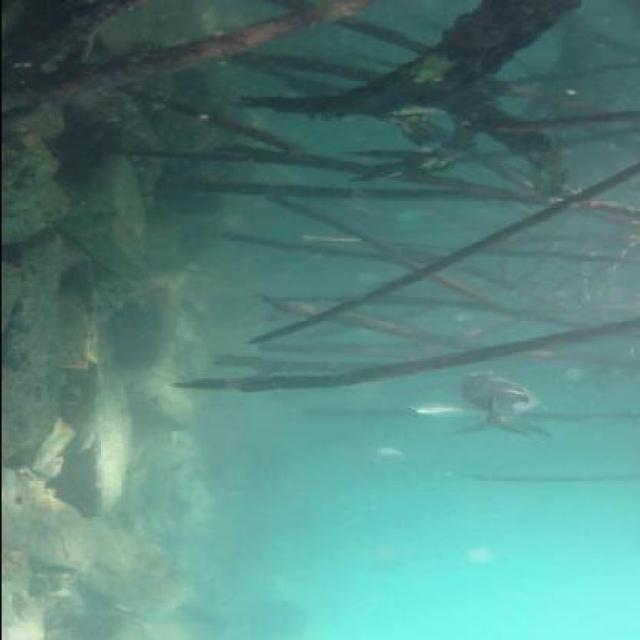Caranx_sexfasciatus_juvenile: (452, 372, 536, 434), (464, 394, 548, 446), (396, 394, 467, 428)
